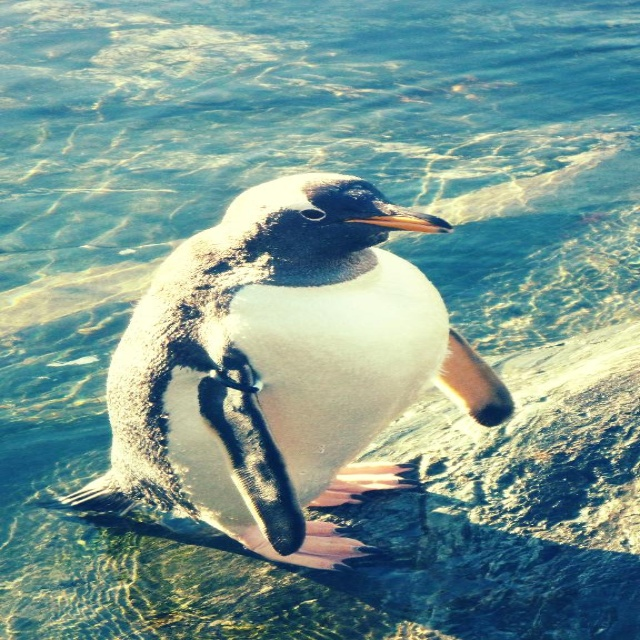Penguin: (36, 174, 515, 574)
